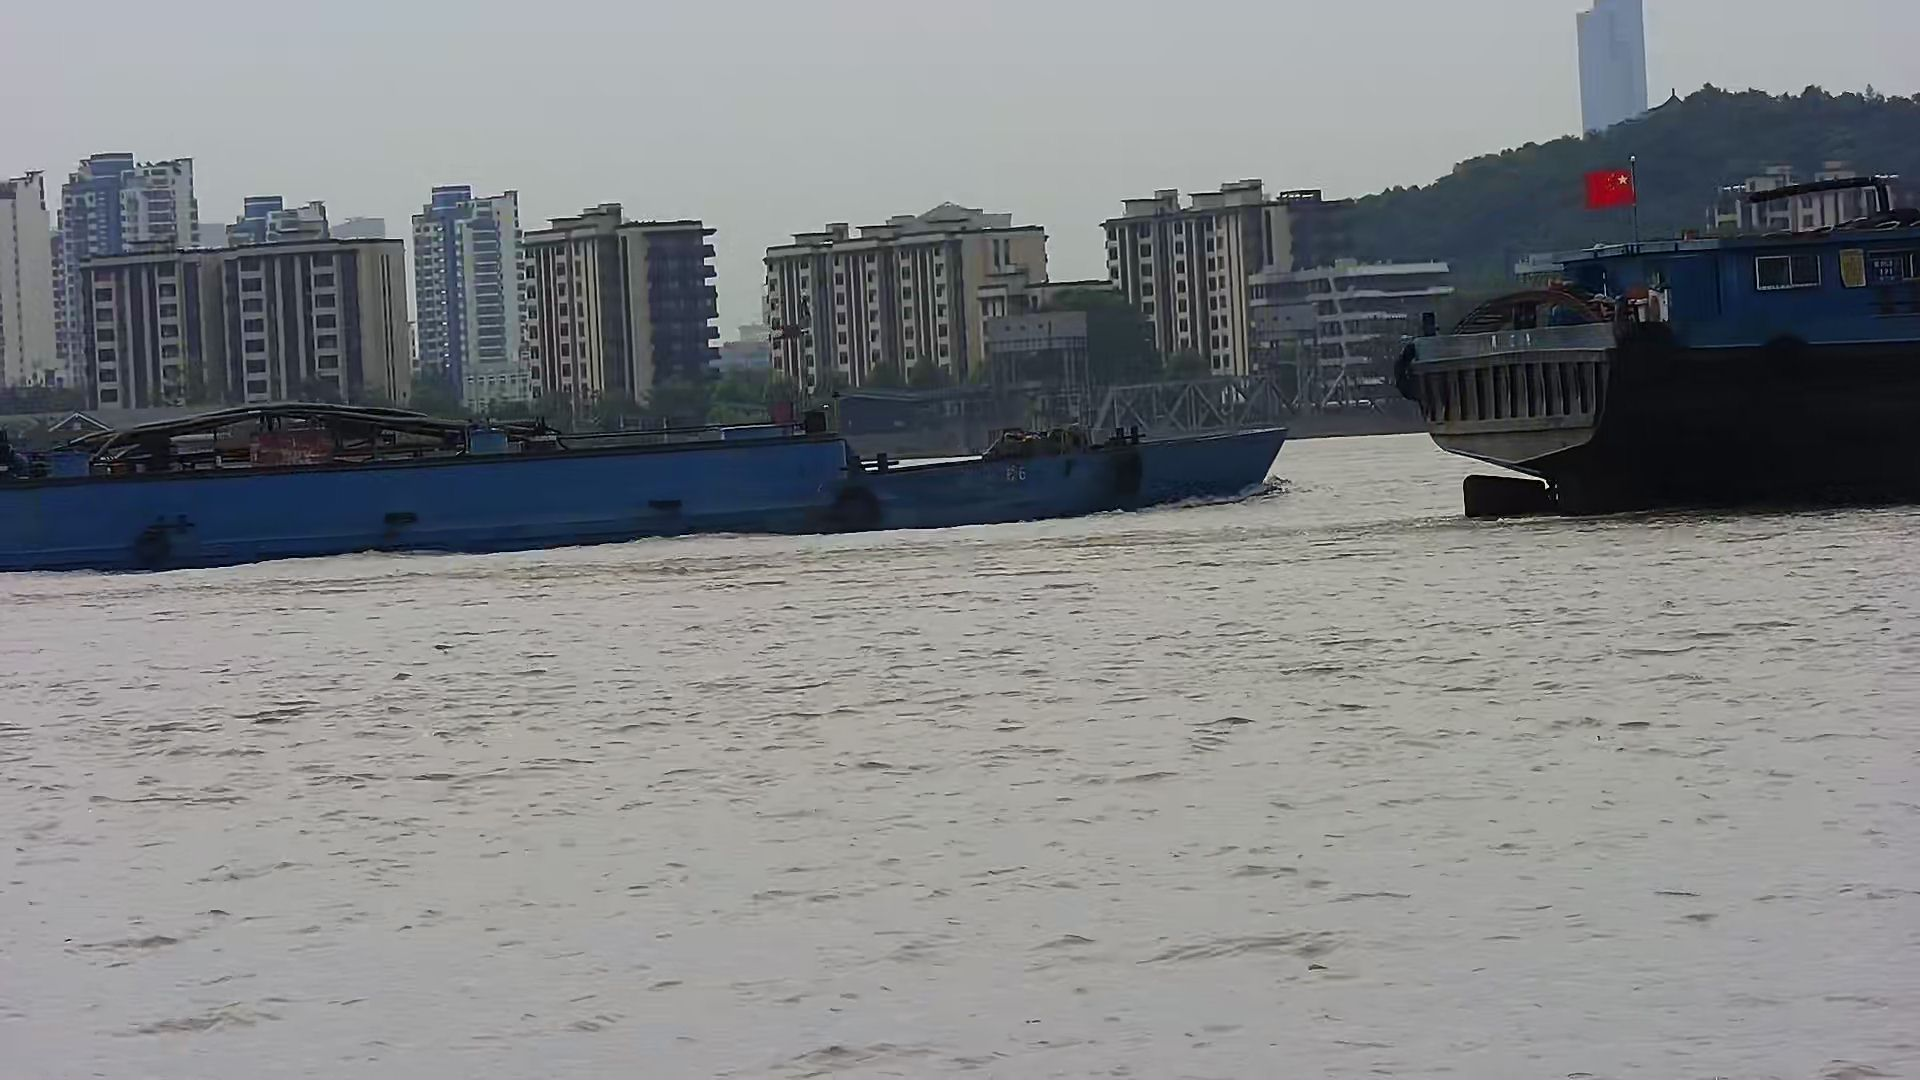ship: (7, 384, 1291, 574), (1389, 150, 1920, 533)
